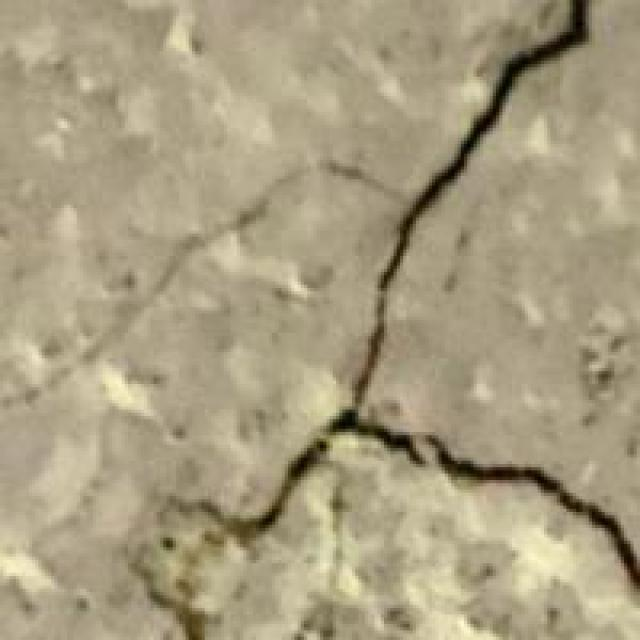Crack: (256, 0, 637, 637)
